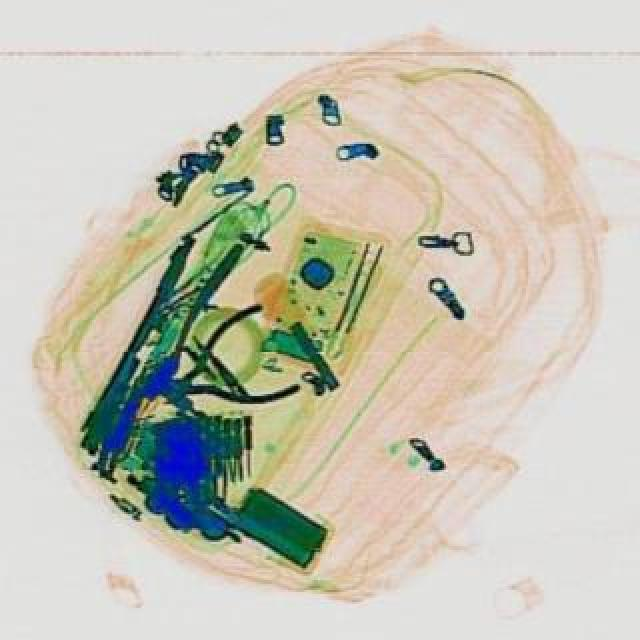wrench: (138, 300, 306, 438)
